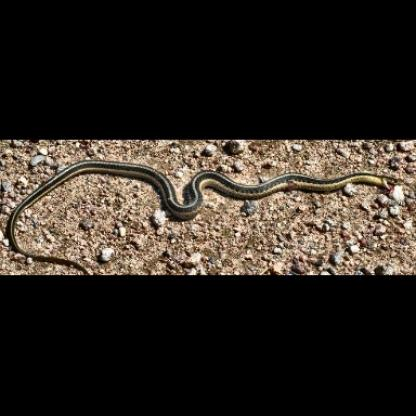Snake: (8, 153, 401, 264)
